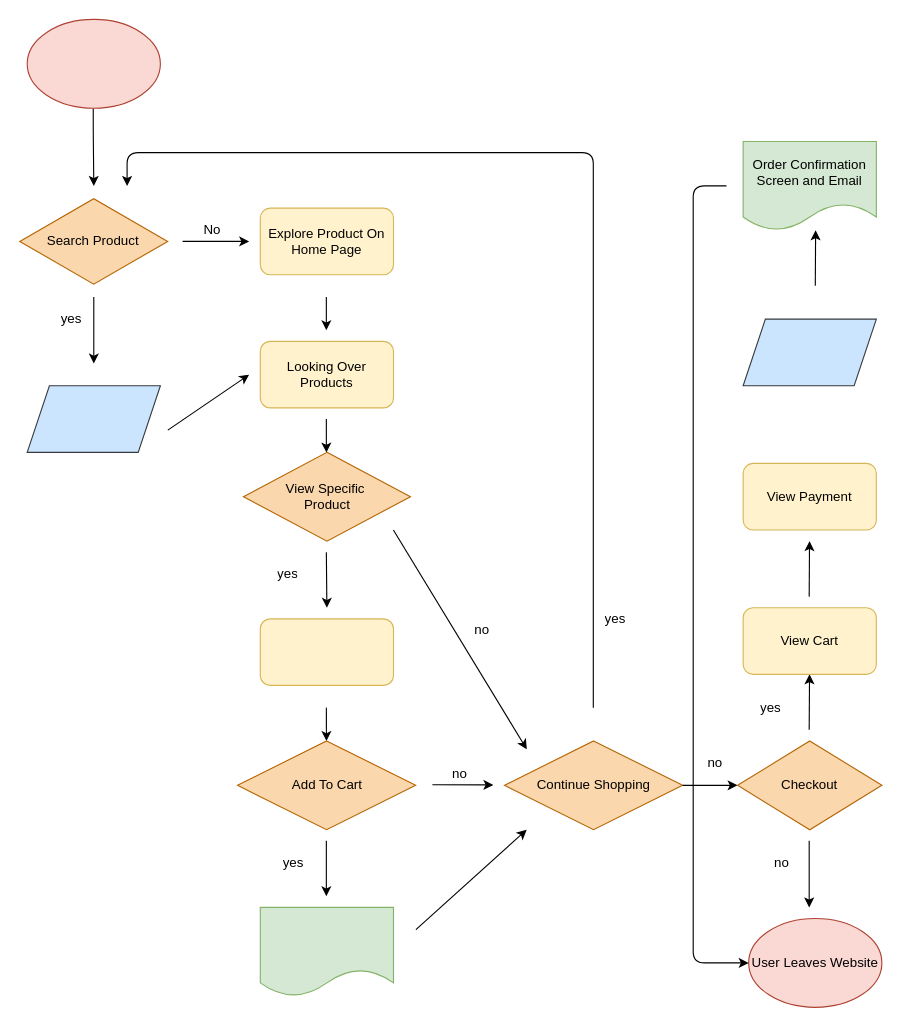
The diagram is 901 pixels wide and 1027 high, and some of its shapes have lost their labels. The shapes that lost their labels are listed below. From the top down, each one's centre as x and y in pixels, then its label:
At point 93,63: "User Enters Website".
At point 809,352: "Input Payment Information".
At point 93,418: "Input Product Name".
At point 326,651: "Opens Specific Product's Webpage".
At point 326,951: "Cart Confirmation".
